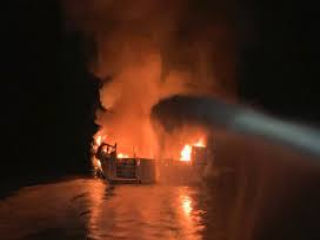smoke: (79, 18, 206, 180)
